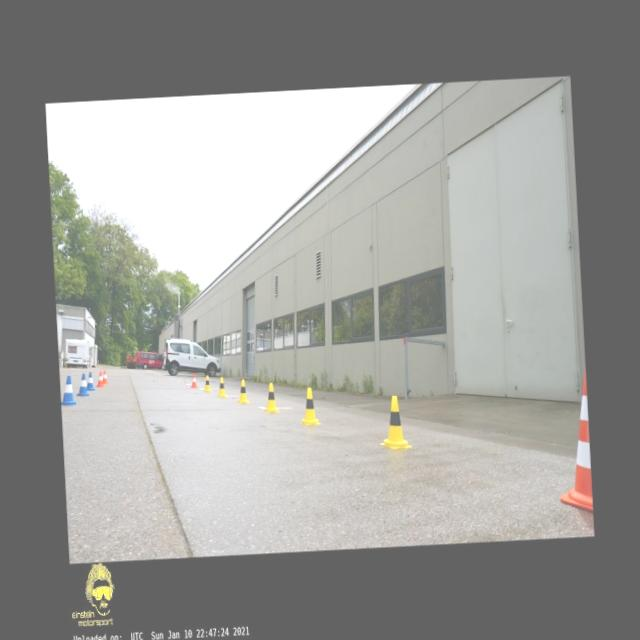blue_cone: (60, 376, 77, 406), (76, 373, 90, 397), (86, 372, 95, 391)
large_orange_cone: (554, 369, 592, 513)
orange_cone: (96, 371, 106, 387), (190, 373, 198, 389), (102, 370, 109, 385)
yellow_cone: (378, 394, 412, 450), (300, 386, 321, 426), (264, 382, 278, 413), (237, 378, 249, 404), (216, 377, 228, 398), (202, 375, 212, 393)
